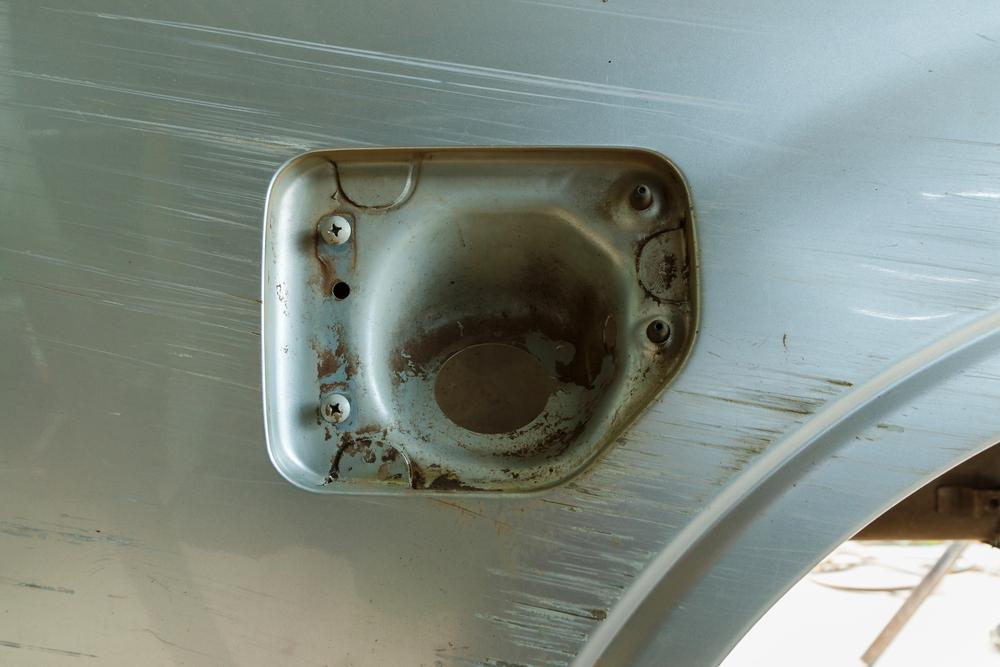scratch: (0, 0, 1000, 667), (0, 506, 275, 667)
